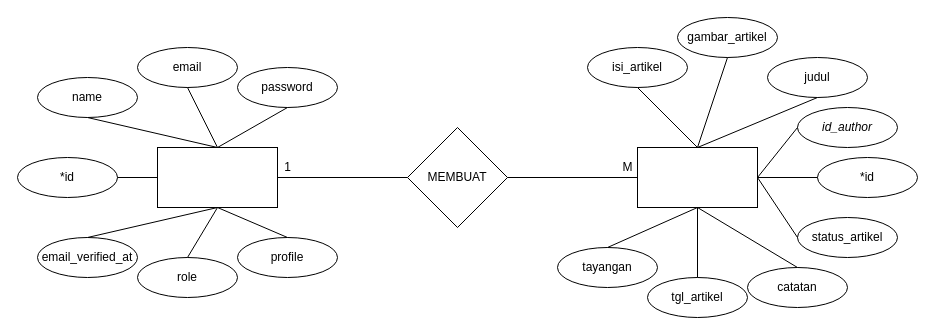
The diagram is 935 pixels wide and 335 high, and some of its shapes have lost their labels. Each missing label, with the centre of its shape:
ARTIKELS: point 697,177
USERS: point 217,177
